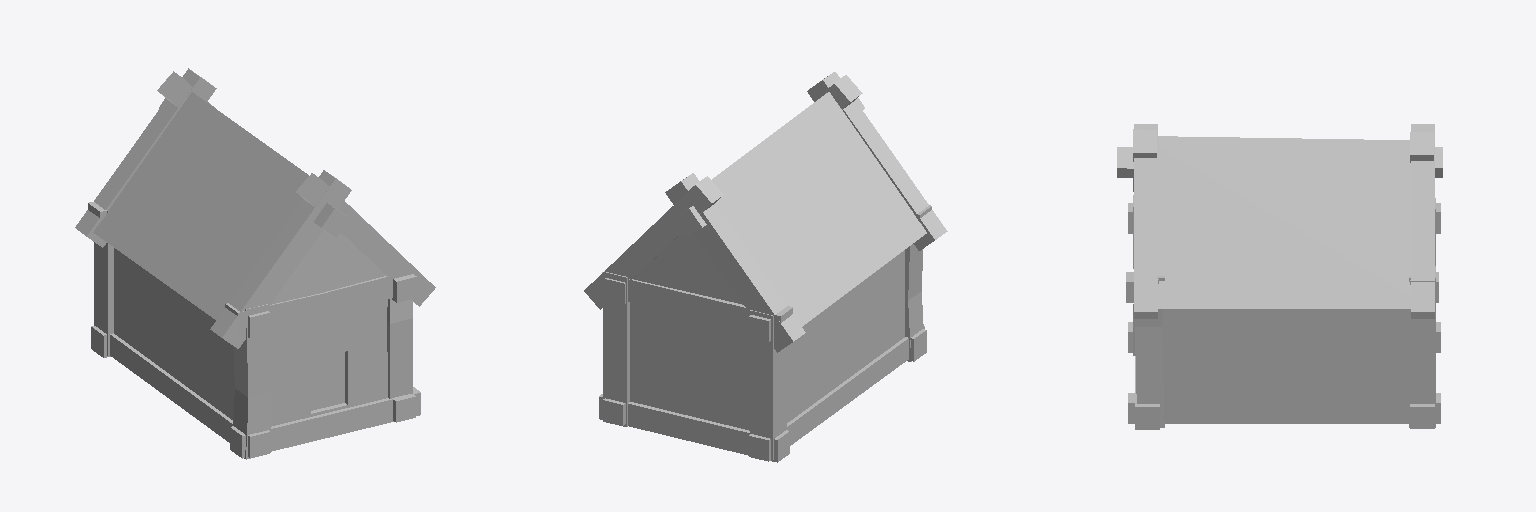
The model's file is dwelling.obj.
The picture shows the model from 3 angles: view 1: azimuth 30°, elevation 25°; view 2: azimuth 150°, elevation 25°; view 3: azimuth 270°, elevation 25°; orthographic projection.
Visible parts, largest first — view 1: Cube.019_Cube.020, Cube.012_Cube.013, Cube.016_Cube.017, Cube.006_Cube.007, Cube.010_Cube.011, Cube.001, Cube.014_Cube.015, Cube.015_Cube.016, Cube.011_Cube.012, Cube.007_Cube.008, Cube.004_Cube.006, Cube.013_Cube.014 (+4 smaller); view 2: Cube.019_Cube.020, Cube.012_Cube.013, Cube.014_Cube.015, Cube.004_Cube.006, Cube.009_Cube.010, Cube.001, Cube.013_Cube.014, Cube.016_Cube.017, Cube.008_Cube.009, Cube.005, Cube.006_Cube.007, Cube.015_Cube.016 (+2 smaller); view 3: Cube.019_Cube.020, Cube.012_Cube.013, Cube, Cube.015_Cube.016, Cube.013_Cube.014, Cube.007_Cube.008, Cube.005, Cube.018_Cube.019, Cube.014_Cube.015, Cube.016_Cube.017, Cube.010_Cube.011, Cube.009_Cube.010.
Boxes of the visible parts, box(x1,y1,x2,y2) form: Cube.019_Cube.020: box(93, 92, 385, 319); Cube.012_Cube.013: box(114, 248, 387, 426); Cube.016_Cube.017: box(210, 170, 351, 348); Cube.006_Cube.007: box(233, 304, 271, 459); Cube.010_Cube.011: box(230, 387, 420, 458); Cube.001: box(110, 333, 270, 457); Cube.014_Cube.015: box(75, 68, 216, 247); Cube.015_Cube.016: box(296, 173, 435, 306); Cube.011_Cube.012: box(225, 276, 392, 334); Cube.007_Cube.008: box(387, 299, 412, 398); Cube.004_Cube.006: box(94, 211, 113, 355); Cube.013_Cube.014: box(157, 71, 214, 107); Cube.019_Cube.020: box(634, 92, 926, 326); Cube.012_Cube.013: box(630, 250, 904, 430); Cube.014_Cube.015: box(665, 173, 805, 352); Cube.004_Cube.006: box(750, 310, 786, 459); Cube.009_Cube.010: box(599, 394, 789, 462); Cube.001: box(749, 326, 924, 461); Cube.013_Cube.014: box(584, 176, 723, 309); Cube.016_Cube.017: box(807, 72, 947, 250); Cube.008_Cube.009: box(602, 272, 792, 330); Cube.005: box(603, 271, 629, 426); Cube.006_Cube.007: box(905, 244, 923, 361); Cube.015_Cube.016: box(815, 75, 862, 109); Cube.019_Cube.020: box(1158, 136, 1410, 308); Cube.012_Cube.013: box(1162, 309, 1408, 402); Cube: box(1128, 393, 1440, 423); Cube.015_Cube.016: box(1134, 124, 1157, 318); Cube.013_Cube.014: box(1411, 124, 1434, 318); Cube.007_Cube.008: box(1135, 276, 1164, 427); Cube.005: box(1409, 266, 1435, 427); Cube.018_Cube.019: box(1117, 147, 1442, 177); Cube.014_Cube.015: box(1410, 132, 1433, 162); Cube.016_Cube.017: box(1133, 129, 1156, 191); Cube.010_Cube.011: box(1135, 356, 1159, 429); Cube.009_Cube.010: box(1410, 404, 1434, 428).
Size of the model in its own units: 6.31 by 7.31 by 8.34.